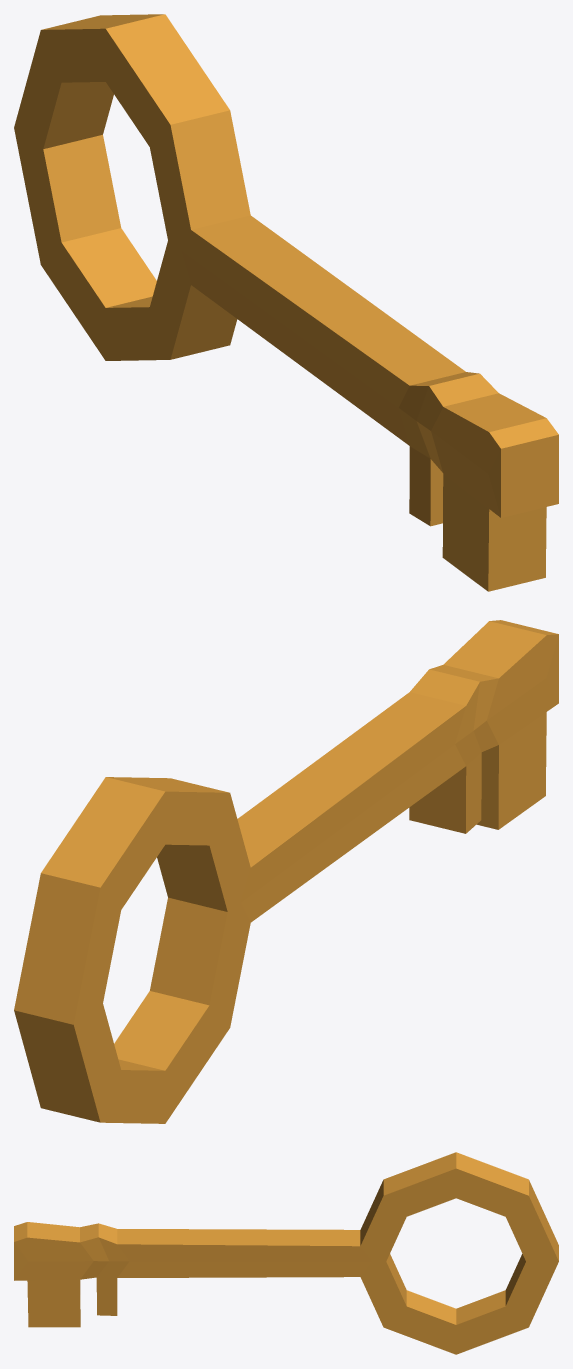
File: pantry key.fbx
The picture shows the model from 3 angles, top to bottom: view 1: azimuth 30°, elevation 25°; view 2: azimuth 150°, elevation 25°; view 3: azimuth 270°, elevation 25°; orthographic projection. The views are drawn at different scales.
Parts seen in each view (by area): view 1: key_2; view 2: key_2; view 3: key_2.
Boxes of the visible parts, left/top/right/bottom form: key_2: left=14, top=14, right=558, bottom=591; key_2: left=14, top=620, right=558, bottom=1123; key_2: left=14, top=1152, right=558, bottom=1354.
Size of the model in its own units: 37.59 by 200 by 530.
